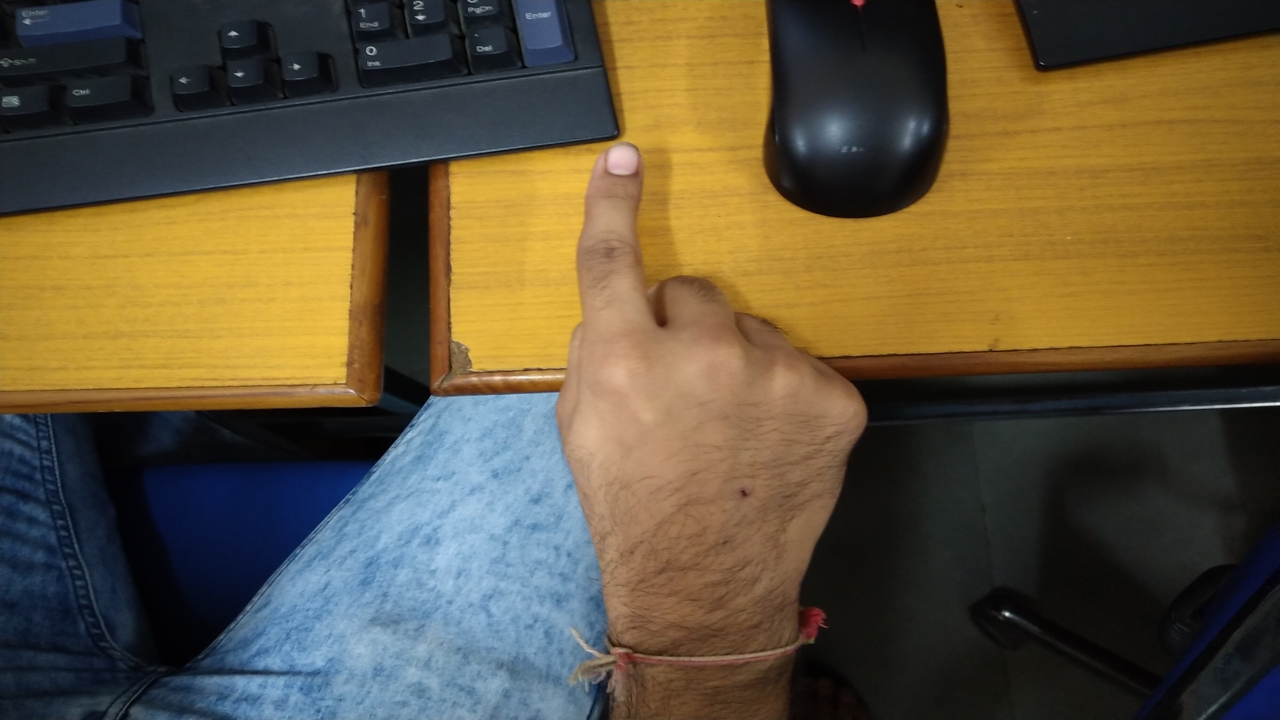fingertip: (588, 130, 646, 188)
